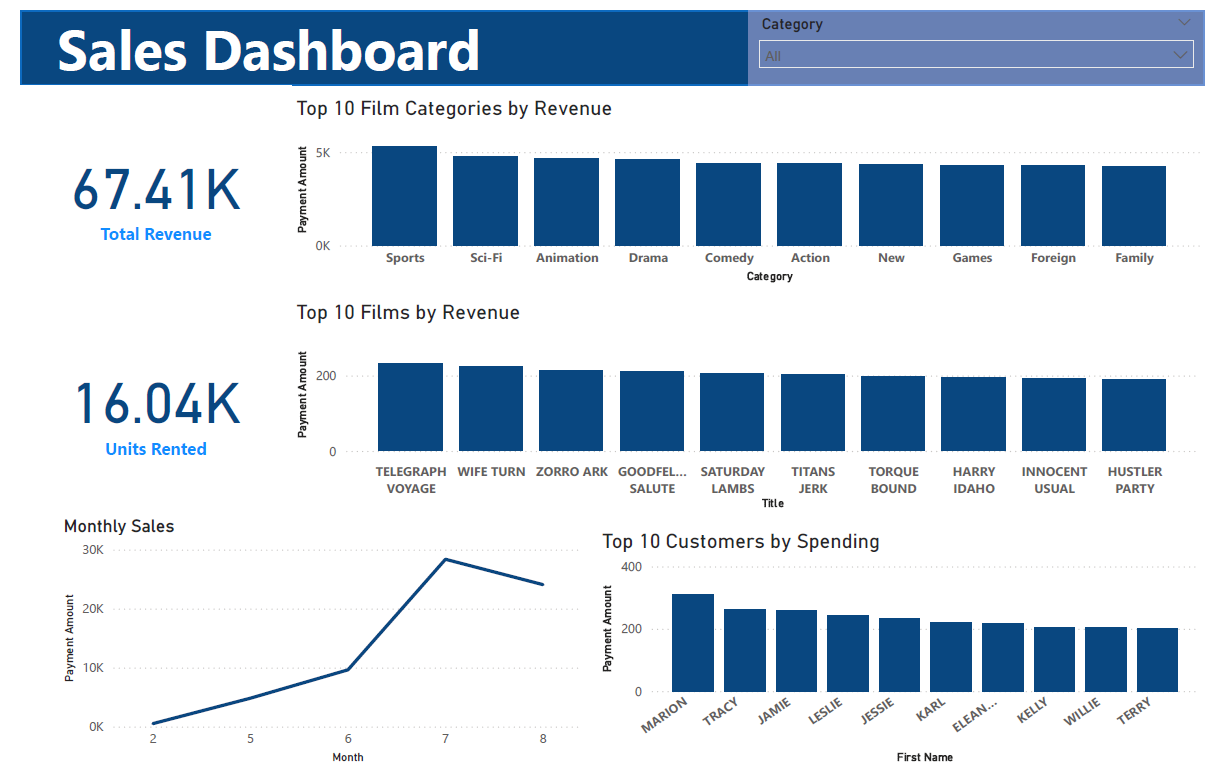

The page's visual inventory and layout, read from the dashboard file:
{"tool":"powerbi","page":{"name":"Page 1","canvas":[1280,720],"ordinal":0},"visuals":[{"type":"shape","box":[78.3,0,1123.8,70.9],"z":0},{"type":"card","fields":{"Values":["Rental Fact Table.Payment Amount"]},"box":[78.3,70.9,256.8,204.2],"z":1000},{"type":"columnChart","title":"Top 10 Film Categories by Revenue","fields":{"Y":["Rental Fact Table.Payment Amount"],"Category":["Dim Film.Category"]},"box":[335.1,80.7,867,182.2],"z":2000},{"type":"lineChart","title":"Monthly Sales","fields":{"Y":["Rental Fact Table.Payment Amount"],"Category":["Dim Date.Month"]},"box":[113.7,479.4,502.6,240.9],"z":3000},{"type":"columnChart","title":"Top 10 Films by Revenue","fields":{"Y":["Rental Fact Table.Payment Amount"],"Category":["Dim Film.Title"]},"box":[335.1,275.1,867,204.2],"z":4000},{"type":"columnChart","title":"Top 10 Customers by Spending","fields":{"Y":["Rental Fact Table.Payment Amount"],"Category":["Dim Customer.First Name"]},"box":[624.9,491.6,577.2,228.7],"z":5000},{"type":"slicer","fields":{"Values":["Dim Film.Category"]},"box":[769.2,0,432.9,70.9],"z":6000},{"type":"card","title":"Revenue for Each Store","fields":{"Values":["Rental Fact Table.Rental Fact Table Count"]},"box":[78.3,275.1,256.8,204.2],"z":7000}]}

Visuals, with their boxes on the page's 1280x720 design canvas (x1, y1, x2, y2). These are canvas units, not pixel positions in the 1215x778 screenshot, which may show the page scaled, cropped or inside an application window:
shape: 78 0 1202 71
card - Rental Fact Table.Payment Amount: 78 71 335 275
"Top 10 Film Categories by Revenue" columnChart: 335 81 1202 263
"Monthly Sales" lineChart: 114 479 616 720
"Top 10 Films by Revenue" columnChart: 335 275 1202 479
"Top 10 Customers by Spending" columnChart: 625 492 1202 720
slicer - Dim Film.Category: 769 0 1202 71
"Revenue for Each Store" card: 78 275 335 479
